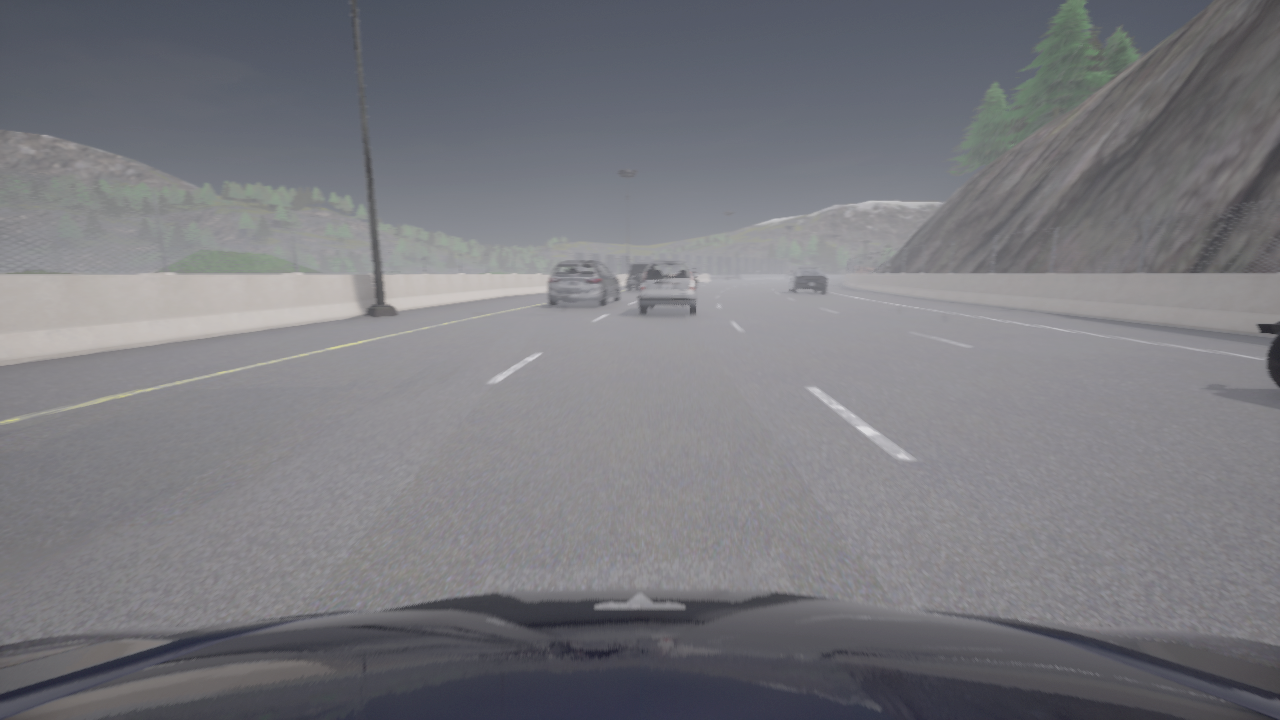cyclist: (0, 588, 1279, 719), (638, 260, 699, 315), (548, 261, 620, 306), (1256, 321, 1279, 389), (788, 267, 826, 293), (627, 263, 650, 291), (695, 282, 698, 289)
